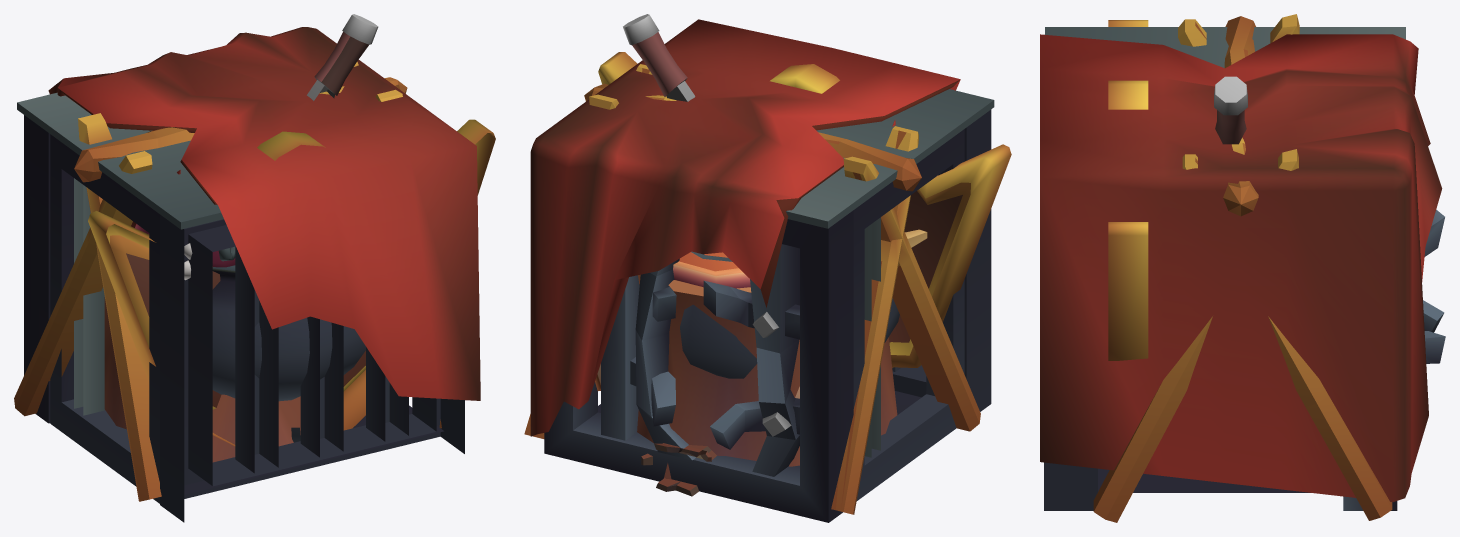
File: End_t4_a1.fbx
3 renders of one model, left to right at view 1: azimuth 30°, elevation 25°; view 2: azimuth 150°, elevation 25°; view 3: azimuth 270°, elevation 25°, orthographic. The views are drawn at different scales.
Visible parts, largest first — view 1: End_t4_a1_lv5, End_t4_a1_lv1, End_t4_a1_lv4, End_t4_a1_lv2, End_t4_a1_lv3; view 2: End_t4_a1_lv5, End_t4_a1_lv1, End_t4_a1_lv3, End_t4_a1_lv4, End_t4_a1_lv2; view 3: End_t4_a1_lv5, End_t4_a1_lv1, End_t4_a1_lv4, End_t4_a1_lv3.
Part boxes in pixels (x1,y1,x2,y2): End_t4_a1_lv5: (17,27,480,522); End_t4_a1_lv1: (14,62,441,501); End_t4_a1_lv4: (88,119,495,446); End_t4_a1_lv2: (212,246,365,442); End_t4_a1_lv3: (104,14,378,462); End_t4_a1_lv5: (530,19,994,522); End_t4_a1_lv1: (524,64,980,514); End_t4_a1_lv3: (623,14,897,479); End_t4_a1_lv4: (598,52,1011,367); End_t4_a1_lv2: (641,251,899,496); End_t4_a1_lv5: (1040,27,1445,510); End_t4_a1_lv1: (1093,14,1392,522); End_t4_a1_lv4: (1108,20,1148,360); End_t4_a1_lv3: (1214,76,1247,144).
Size of the model in its own units: 5.11 by 4.78 by 4.18.
